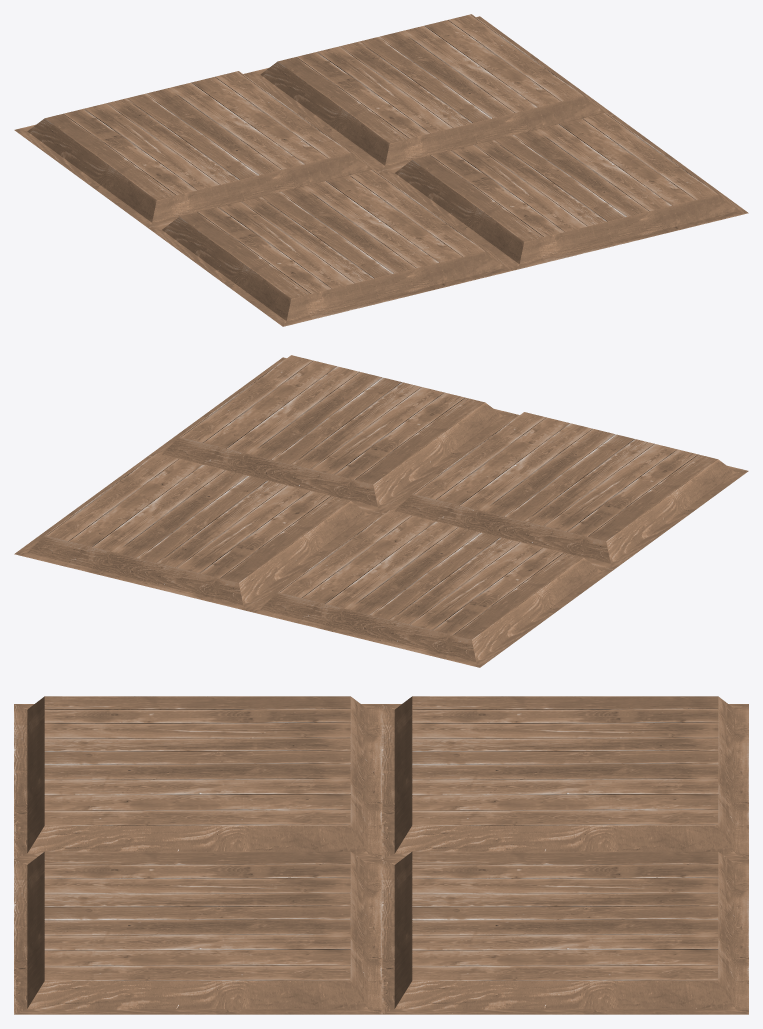
Rendered from Ceiling16B.fbx.
3 renders of one model, top to bottom at view 1: azimuth 30°, elevation 25°; view 2: azimuth 150°, elevation 25°; view 3: azimuth 270°, elevation 25°, orthographic. The views are drawn at different scales.
Parts seen in each view (by area): view 1: Ceiling16B; view 2: Ceiling16B; view 3: Ceiling16B.
Boxes of the visible parts, x1=… form: Ceiling16B: x1=14, y1=14, x2=748, y2=326; Ceiling16B: x1=14, y1=355, x2=748, y2=667; Ceiling16B: x1=14, y1=696, x2=748, y2=1014.
Bounding box in the file's own units: 400 × 12.44 × 400.
